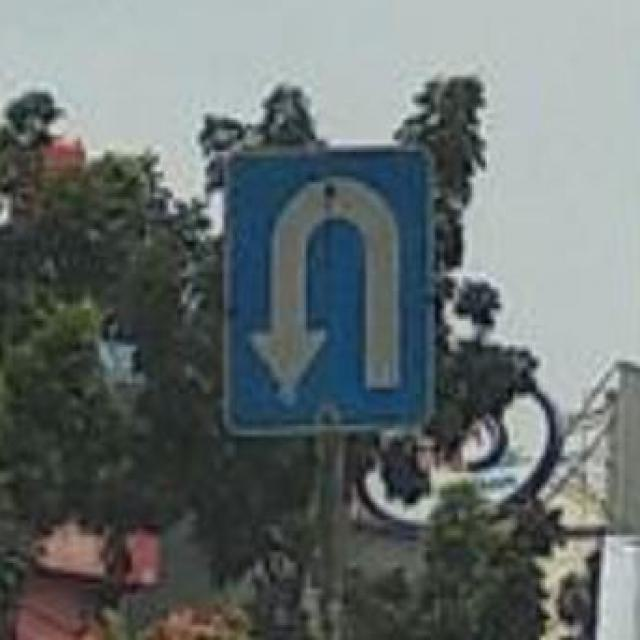U-turn: (227, 151, 426, 427)
